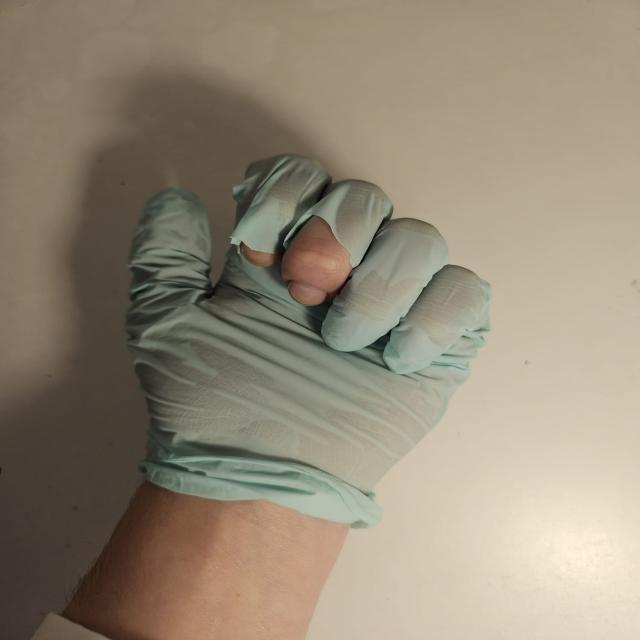gloves_damaged: (124, 158, 498, 529)
